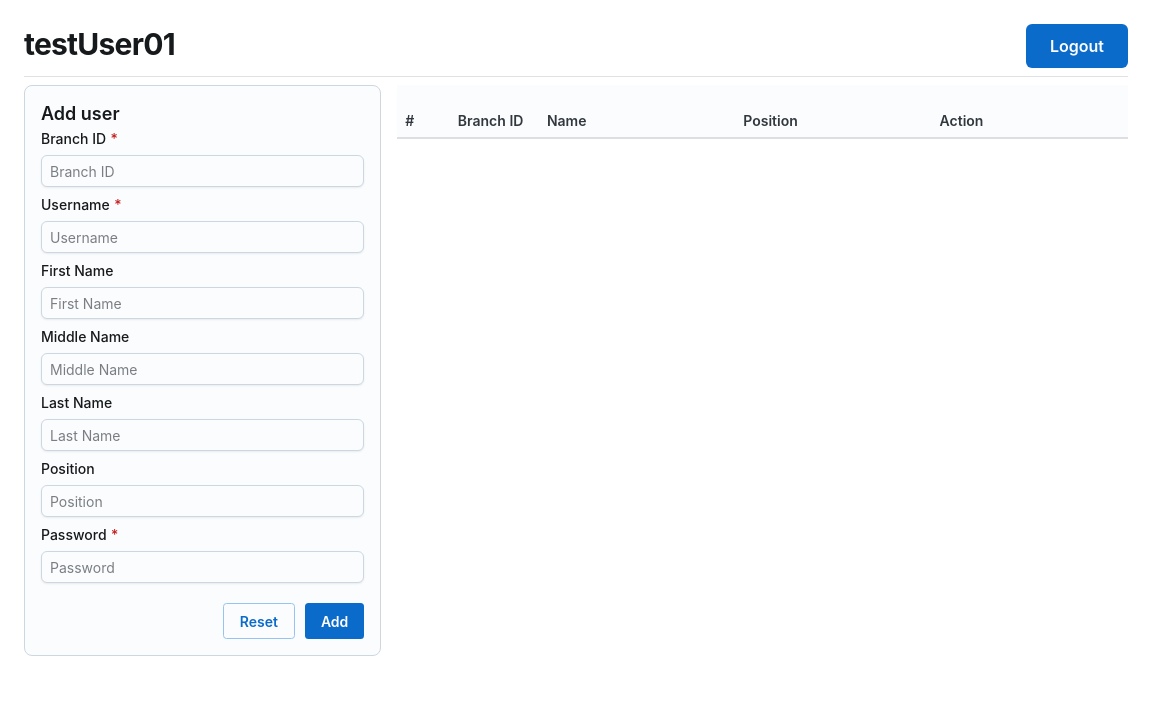
Test: <Dashboard /> › handleSubmit() › empty fields
The width and height of the screenshot is (1152, 720).
Click the button with aria-label "addUser" at (335, 621), box [305,603,364,639]
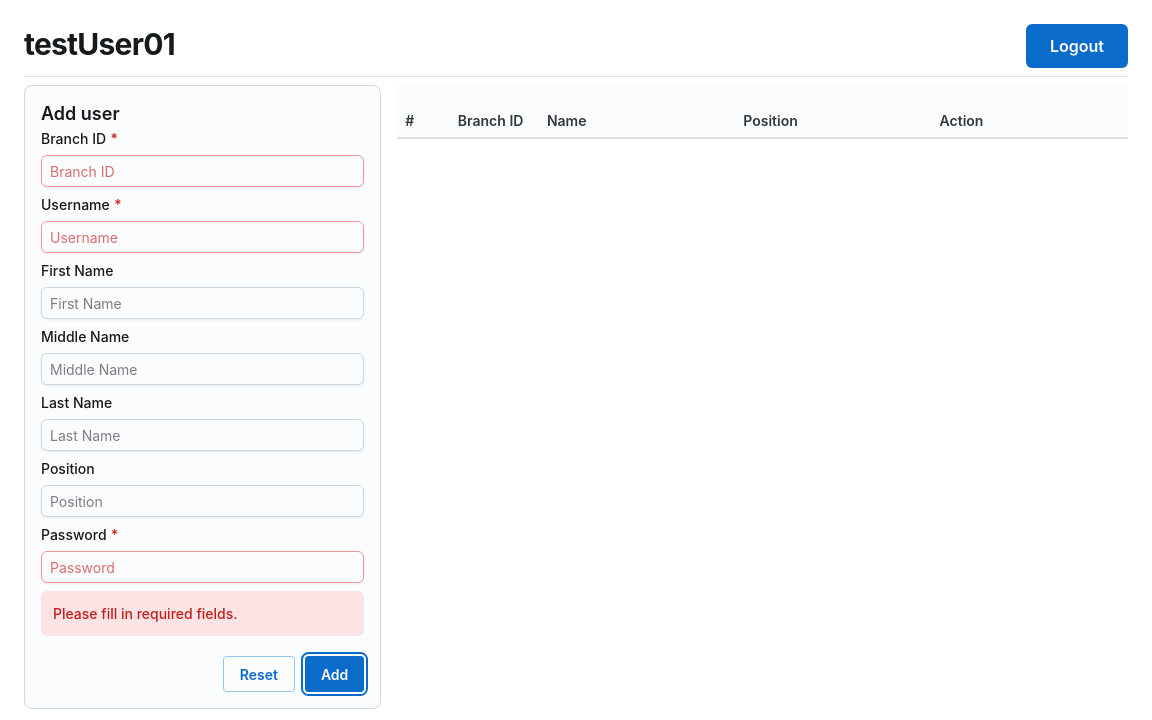
Check: the text "Please fill in required fields." is shown, box [53,603,238,624]
